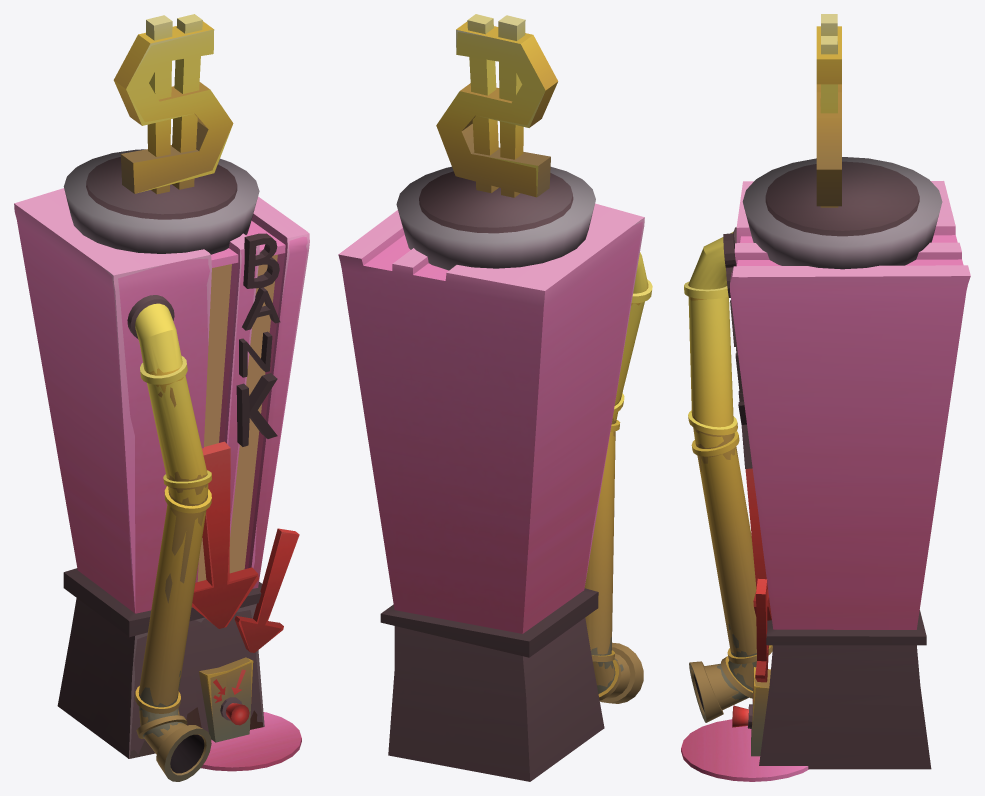
Rendered from SM_Bank_rose.fbx.
3 views of the same model, side by side, from view 1: azimuth 30°, elevation 25°; view 2: azimuth 150°, elevation 25°; view 3: azimuth 270°, elevation 25° (orthographic).
Parts seen in each view (by area): view 1: Cylinder.019, Cube.044; view 2: Cylinder.019, Cube.044; view 3: Cylinder.019, Cube.044.
Part boxes in pixels (left/top/right/bottom): Cylinder.019: left=14, top=188, right=309, bottom=781; Cube.044: left=63, top=14, right=259, bottom=254; Cylinder.019: left=338, top=203, right=652, bottom=781; Cube.044: left=396, top=14, right=595, bottom=270; Cylinder.019: left=681, top=181, right=970, bottom=781; Cube.044: left=742, top=14, right=942, bottom=269.
Bounding box in the file's own units: 11.9 × 41.41 × 15.11.
